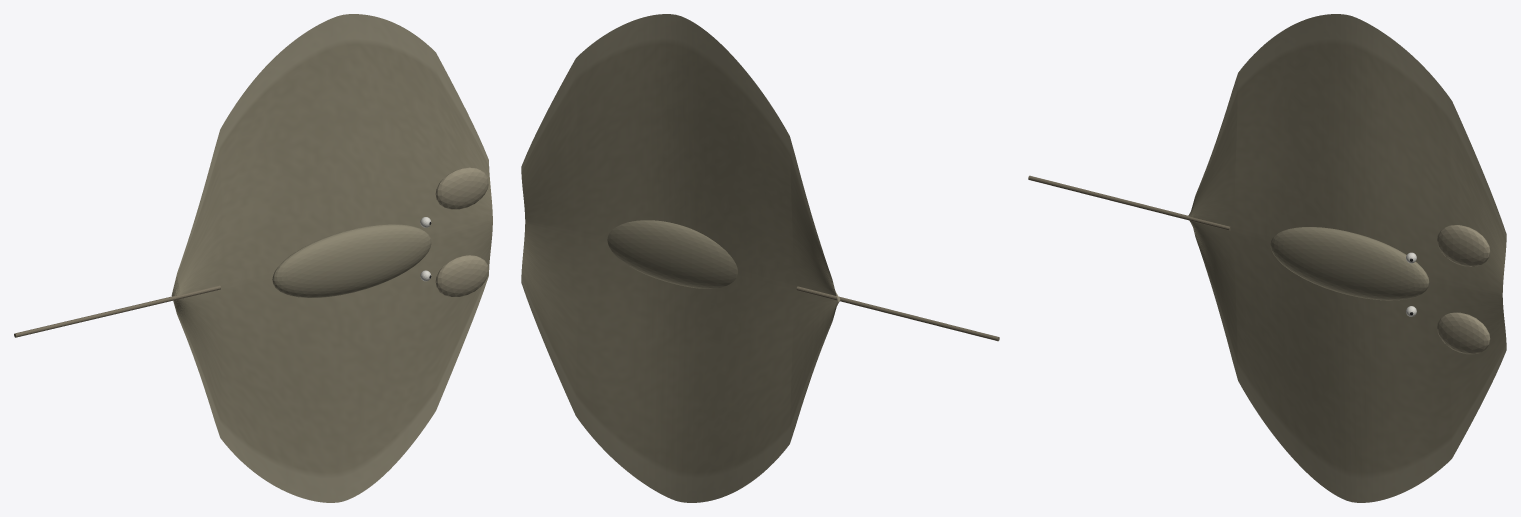
File: cownose_ray_realistic_generated.glb
3 renders of one model, left to right at view 1: azimuth 30°, elevation 25°; view 2: azimuth 150°, elevation 25°; view 3: azimuth 330°, elevation 25°, orthographic.
Visible parts, largest first — view 1: world; view 2: world; view 3: world.
Boxes of the visible parts, x1,y1,x2,y2 form: world: (14,14,492,502); world: (521,14,999,502); world: (1028,14,1506,502).
Size of the model in its own units: 4.5 by 4.4 by 0.3098.
